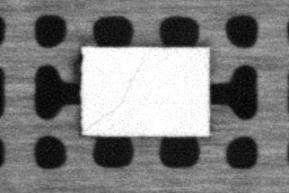DIE_CRACK: (89, 56, 146, 127)
